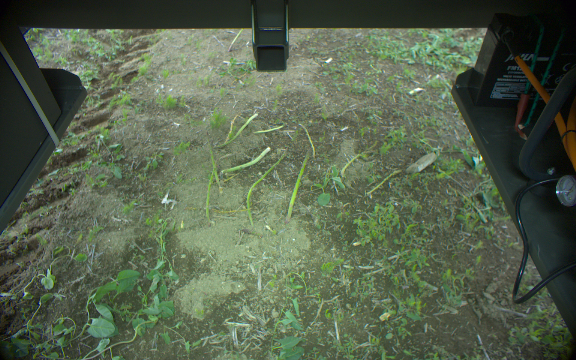aspa: (245, 150, 286, 221), (284, 146, 313, 218), (219, 145, 271, 178), (200, 159, 218, 221), (204, 131, 221, 193)
